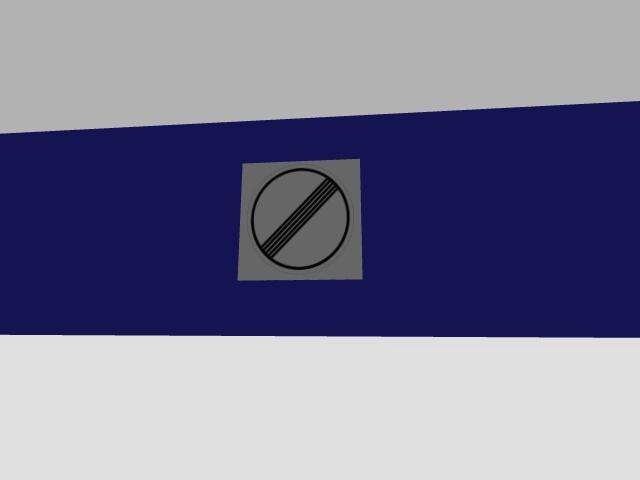fastsign: (238, 160, 360, 280)
